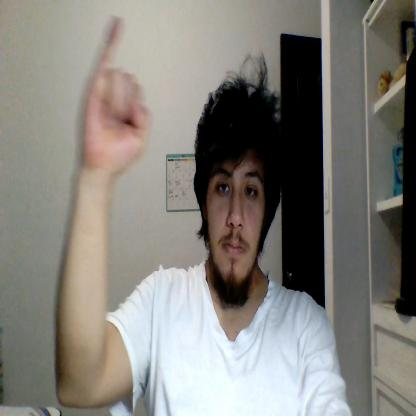I: (75, 15, 151, 177)
